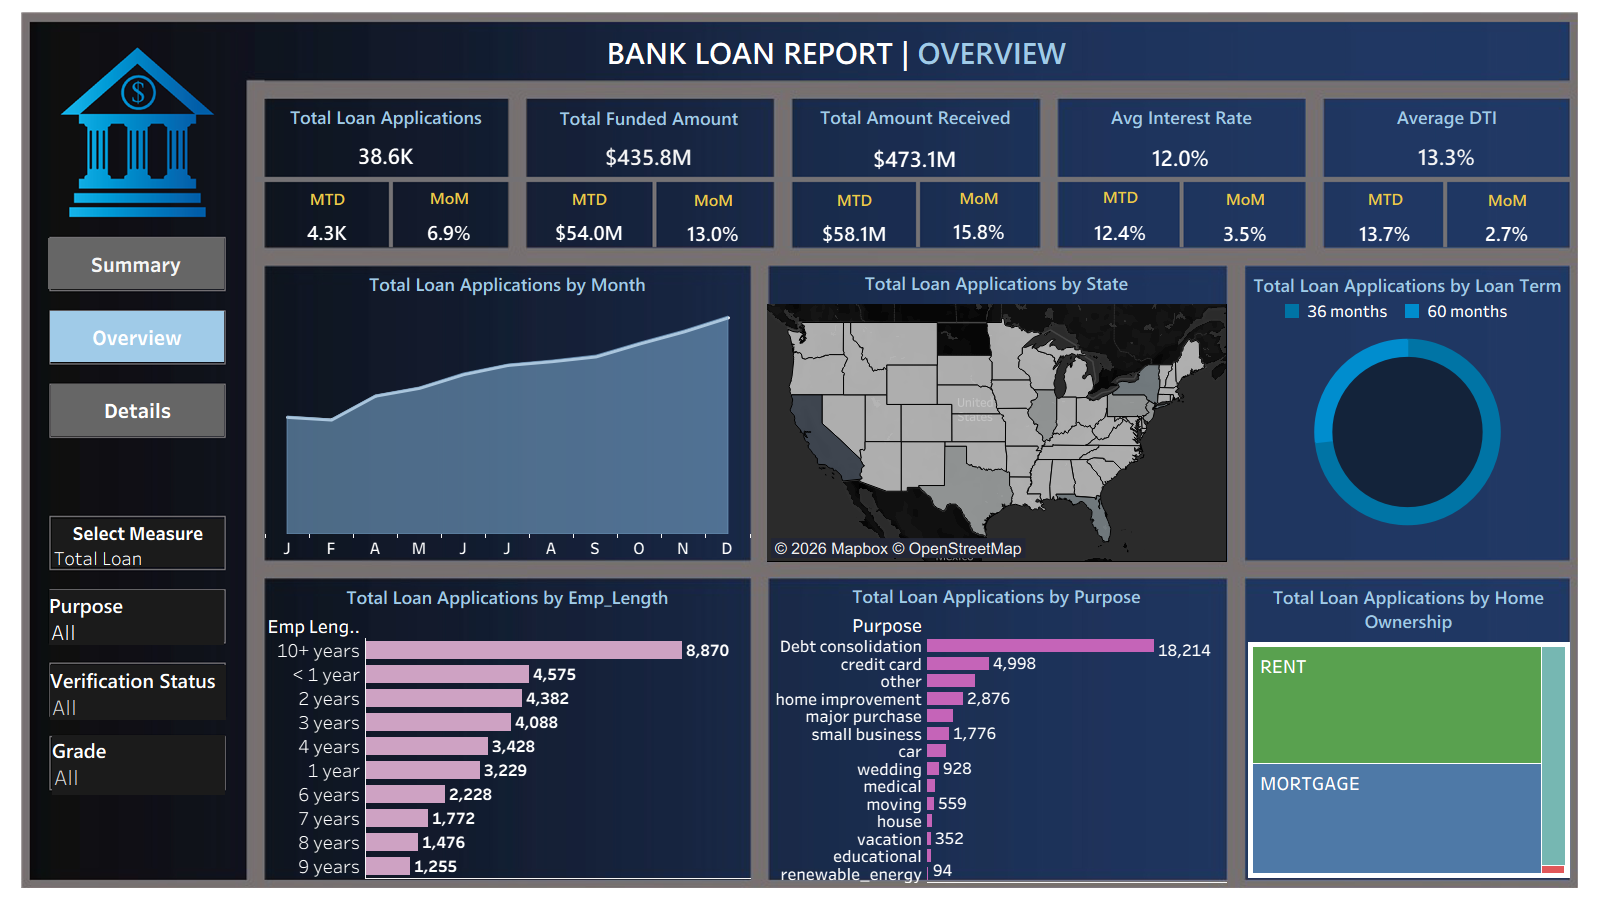

What the dashboard file says about the page in this screenshot:
{"tool":"tableau","page":{"name":"Overview Dashboard","canvas":[1600,900],"ordinal":1},"visuals":[{"type":"image","param":"C:/Users/JOY/Downloads/overview-01.jpg","box":[8,8,1584,884]},{"type":"text","box":[478,32,717,40]},{"type":"worksheet","title":"Total Loan Applications (Overview)","mark":"Automatic","box":[266,99,240,75]},{"type":"worksheet","title":"Total Amount Received (Overview)","mark":"Automatic","box":[793,99,245,80]},{"type":"worksheet","title":"Avg Interest Rate (Overview)","mark":"Automatic","box":[1057,99,249,78]},{"type":"worksheet","title":"Average DTI (Overview)","mark":"Automatic","box":[1325,99,244,77]},{"type":"worksheet","title":"Total Funded Amount (Overview)","mark":"Automatic","box":[528,100,242,75]},{"type":"worksheet","title":"MTD Avg Interest Rate (Overview)","mark":"Automatic","box":[1060,180,121,67]},{"type":"worksheet","title":"MoM Total Loan Applications (Overview)","mark":"Automatic","box":[392,181,115,66]},{"type":"worksheet","title":"MoM Total Amount Received (Overview)","mark":"Automatic","box":[920,181,118,63]},{"type":"worksheet","title":"MTD Total Loan Applications (Overview)","mark":"Automatic","box":[265,182,125,64]},{"type":"worksheet","title":"MTD Total Funded Amount (Overview)","mark":"Automatic","box":[527,182,125,63]},{"type":"worksheet","title":"MoM Average Interest Rate (Overview)","mark":"Automatic","box":[1185,182,121,65]},{"type":"worksheet","title":"MTD Average DTI (Overview)","mark":"Automatic","box":[1326,182,119,65]},{"type":"worksheet","title":"MoM Total Funded Amount (Overview)","mark":"Automatic","box":[656,183,115,63]},{"type":"worksheet","title":"MTD Total Amount Received (Overview)","mark":"Automatic","box":[793,183,123,64]},{"type":"worksheet","title":"MoM Average DTI (Overview)","mark":"Automatic","box":[1447,183,121,63]},{"type":"dashboard-object","box":[48,238,176,51]},{"type":"worksheet","title":"By State","mark":"Automatic","box":[767,265,459,296]},{"type":"worksheet","title":"Monthly Trends","mark":"Area","rows":["Calculation_0657287018024960","Calculation_0657287018024960"],"cols":["issue_date"],"box":[265,266,485,294]},{"type":"worksheet","title":"By Loan Term","mark":"Pie","rows":["Calculation_0282077807128601","Calculation_0282077807128601"],"box":[1247,267,321,291]},{"type":"legend","title":"By Loan Term","param":"[federated.02bapp10spx5te19axciv0uohof1].[none:term:nk]","box":[1281,300,250,24]},{"type":"dashboard-object","box":[50,311,174,51]},{"type":"dashboard-object","box":[51,384,173,52]},{"type":"parameter","param":"[Parameters].[Parameter 2]","box":[52,519,172,48]},{"type":"worksheet","title":"Loan Purpose","mark":"Automatic","rows":["purpose"],"cols":["Calculation_0657287018024960"],"box":[767,578,459,304]},{"type":"worksheet","title":"By Employee Length","mark":"Automatic","rows":["emp_length"],"cols":["Calculation_0657287018024960"],"box":[265,579,485,299]},{"type":"worksheet","title":"Home Ownership","mark":"Automatic","box":[1248,579,321,302]},{"type":"filter","title":"Monthly Trends","param":"[federated.02bapp10spx5te19axciv0uohof1].[none:purpose:nk]","box":[49,590,175,55]},{"type":"filter","title":"Monthly Trends","param":"[federated.02bapp10spx5te19axciv0uohof1].[none:verification_status:nk]","box":[50,665,176,49]},{"type":"filter","title":"Monthly Trends","param":"[federated.02bapp10spx5te19axciv0uohof1].[none:grade:nk]","box":[52,735,173,53]}]}

Visuals, with their boxes in screenshot pixels (x1, y1, x2, y2), scaled from the page's 1600x900 canvas onto the 1600x900 screenshot:
image: (x1=8, y1=8, x2=1592, y2=892)
text: (x1=478, y1=32, x2=1195, y2=72)
"Total Loan Applications (Overview)" worksheet: (x1=266, y1=99, x2=506, y2=174)
"Total Amount Received (Overview)" worksheet: (x1=793, y1=99, x2=1038, y2=179)
"Avg Interest Rate (Overview)" worksheet: (x1=1057, y1=99, x2=1306, y2=177)
"Average DTI (Overview)" worksheet: (x1=1325, y1=99, x2=1569, y2=176)
"Total Funded Amount (Overview)" worksheet: (x1=528, y1=100, x2=770, y2=175)
"MTD Avg Interest Rate (Overview)" worksheet: (x1=1060, y1=180, x2=1181, y2=247)
"MoM Total Loan Applications (Overview)" worksheet: (x1=392, y1=181, x2=507, y2=247)
"MoM Total Amount Received (Overview)" worksheet: (x1=920, y1=181, x2=1038, y2=244)
"MTD Total Loan Applications (Overview)" worksheet: (x1=265, y1=182, x2=390, y2=246)
"MTD Total Funded Amount (Overview)" worksheet: (x1=527, y1=182, x2=652, y2=245)
"MoM Average Interest Rate (Overview)" worksheet: (x1=1185, y1=182, x2=1306, y2=247)
"MTD Average DTI (Overview)" worksheet: (x1=1326, y1=182, x2=1445, y2=247)
"MoM Total Funded Amount (Overview)" worksheet: (x1=656, y1=183, x2=771, y2=246)
"MTD Total Amount Received (Overview)" worksheet: (x1=793, y1=183, x2=916, y2=247)
"MoM Average DTI (Overview)" worksheet: (x1=1447, y1=183, x2=1568, y2=246)
dashboard-object: (x1=48, y1=238, x2=224, y2=289)
"By State" worksheet: (x1=767, y1=265, x2=1226, y2=561)
"Monthly Trends" worksheet (Area marks): (x1=265, y1=266, x2=750, y2=560)
"By Loan Term" worksheet (Pie marks): (x1=1247, y1=267, x2=1568, y2=558)
"By Loan Term" legend: (x1=1281, y1=300, x2=1531, y2=324)
dashboard-object: (x1=50, y1=311, x2=224, y2=362)
dashboard-object: (x1=51, y1=384, x2=224, y2=436)
parameter: (x1=52, y1=519, x2=224, y2=567)
"Loan Purpose" worksheet: (x1=767, y1=578, x2=1226, y2=882)
"By Employee Length" worksheet: (x1=265, y1=579, x2=750, y2=878)
"Home Ownership" worksheet: (x1=1248, y1=579, x2=1569, y2=881)
"Monthly Trends" filter: (x1=49, y1=590, x2=224, y2=645)
"Monthly Trends" filter: (x1=50, y1=665, x2=226, y2=714)
"Monthly Trends" filter: (x1=52, y1=735, x2=225, y2=788)
